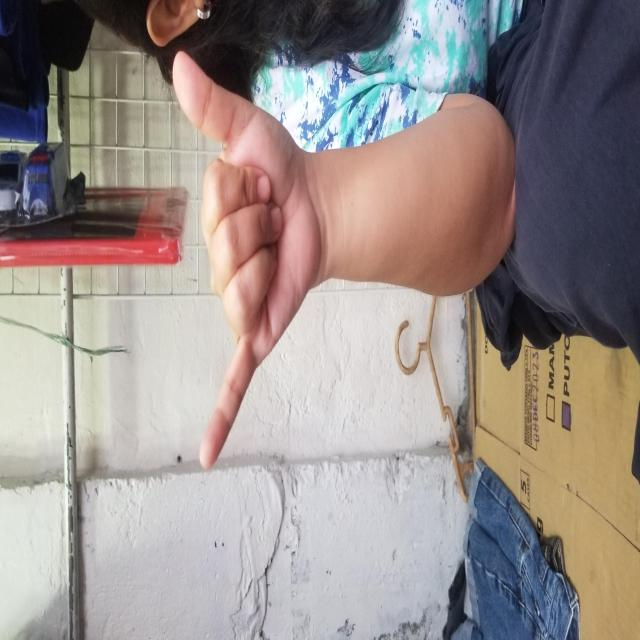Y: (146, 35, 342, 495)
